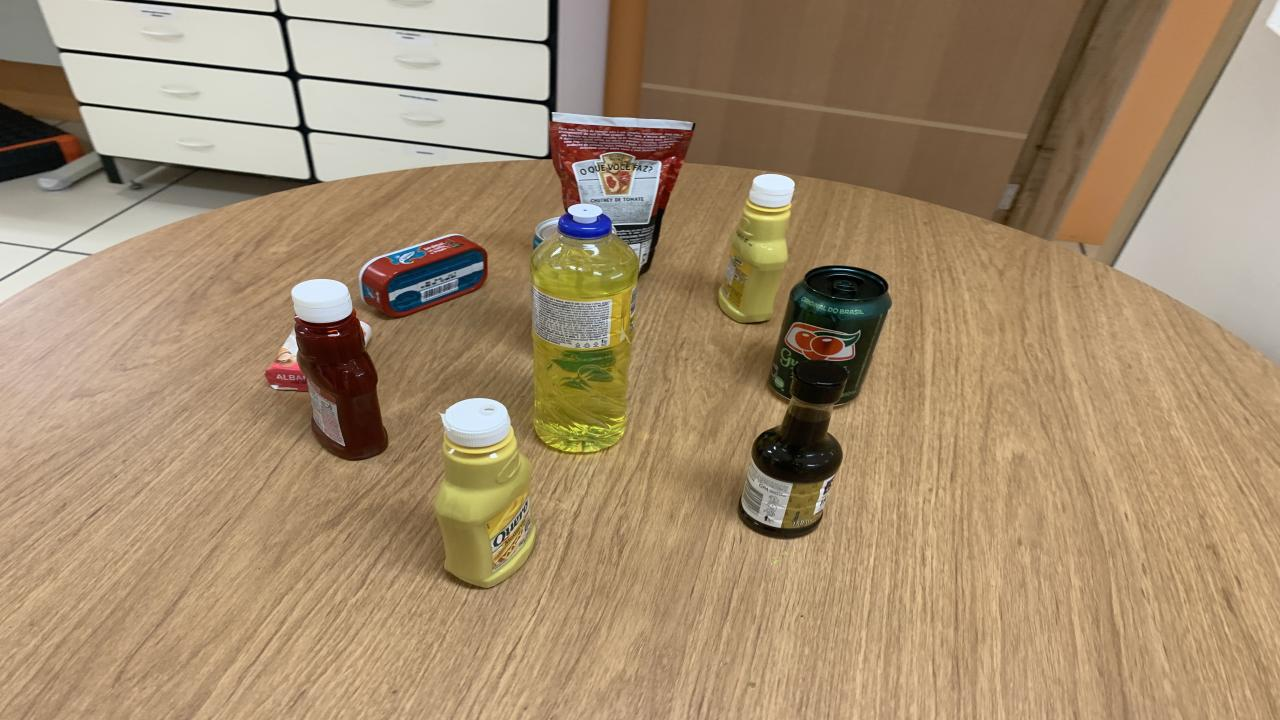Detergent-Cleanup_Items: (530, 202, 638, 452)
English_Sauce-Pantry_Items: (740, 360, 848, 538)
Guarana_Can-Drinks: (770, 266, 892, 403)
Ketchup-Pantry_Items: (290, 279, 388, 459)
Mustard-Pantry_Items: (435, 398, 535, 587), (718, 174, 795, 322)
Soap-Cleanup_Items: (265, 332, 308, 392), (360, 322, 370, 339)
Tea-Drinks: (532, 218, 560, 248)
Tomato_Sauce-Pantry_Items: (550, 112, 695, 274)
Tuna_Can-Pantry_Items: (360, 234, 488, 317)
